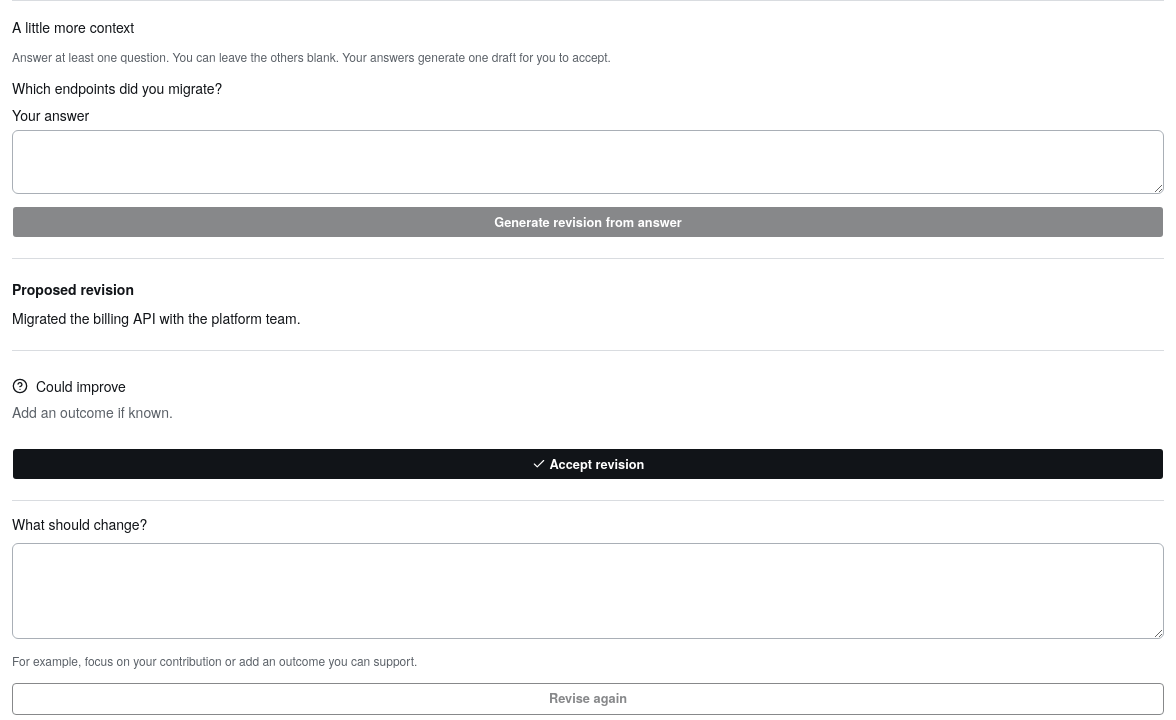
Test case: keeps an answer editable when the server reports an unrelated draft conflict
The image size is (1176, 720).
Type "I migrated billing." into the text box labelled "Your answer" at (588, 162), box [12,130,1164,194]
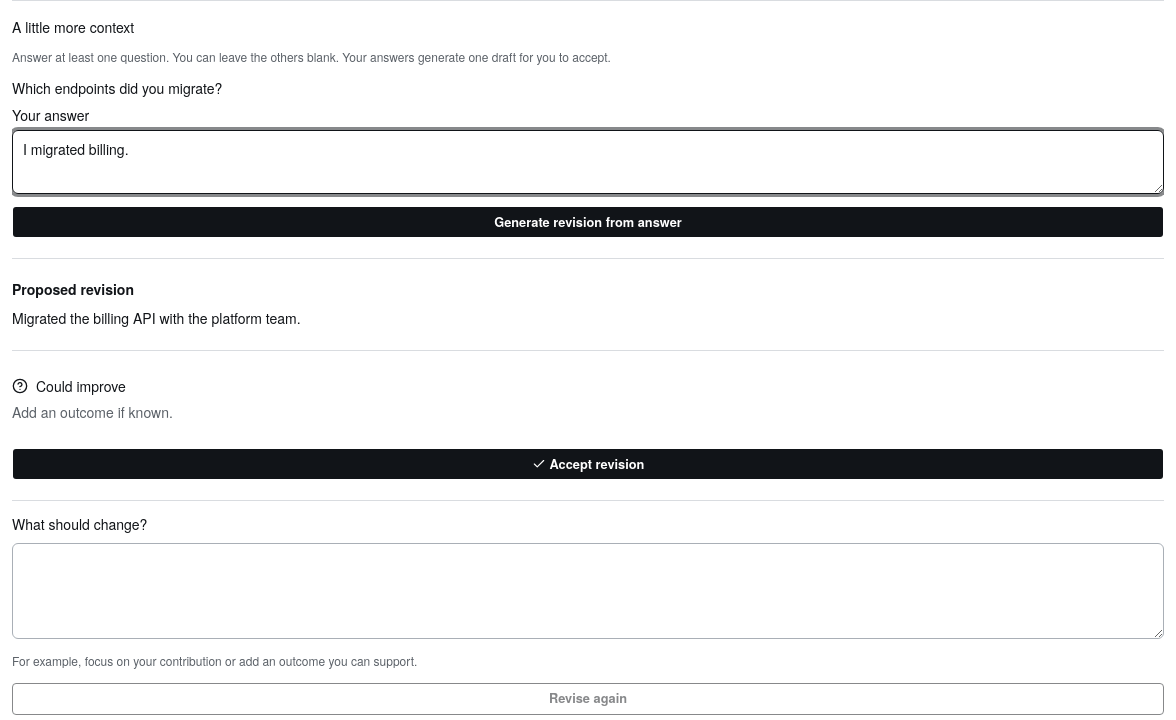
Click the button "Generate revision from answer" at (588, 222), box [12,206,1164,238]
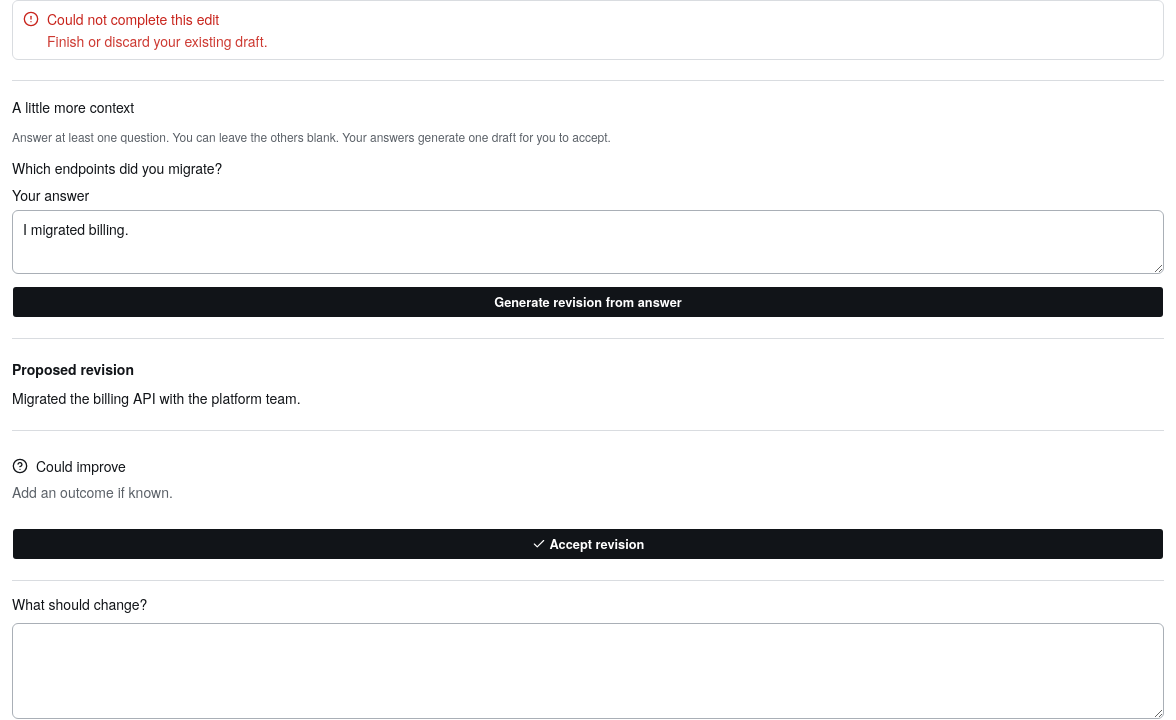
Expected: the text "Migrated the billing API with the platform team." is shown, [12,388,301,408]
Expected: the text "Finish or discard your existing draft." is shown, [47,31,268,51]
